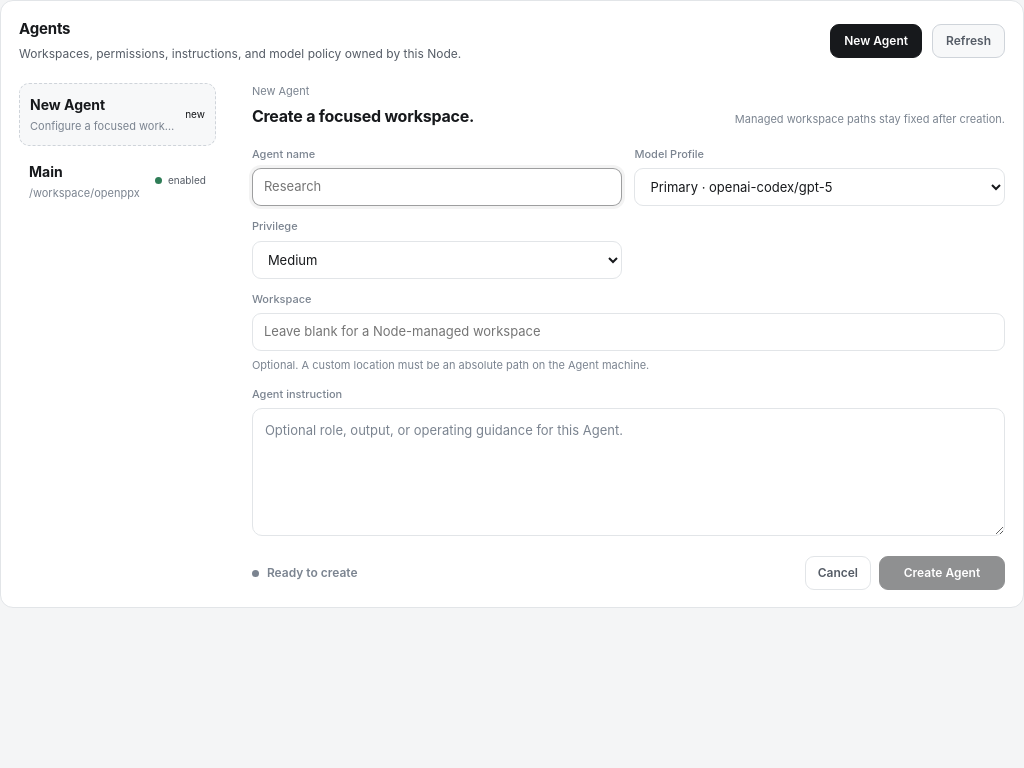
Scenario: AgentSettings › opens the inline creation form, focuses it, and cancels back to the selected Agent
Expected: the heading "Create a focused workspace." is shown, [252,104,474,128]
Expected: the field labelled "Agent ID" is not shown
Click the button "Cancel" at [838, 573], box [805,556,871,590]
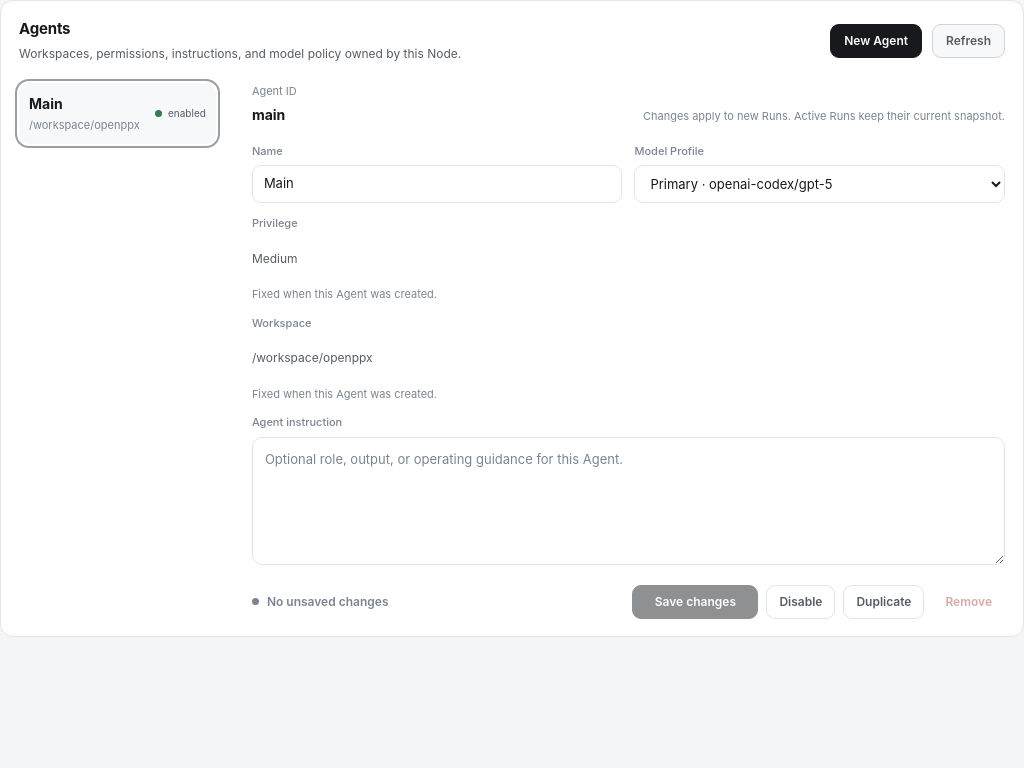
Result: the heading "Create a focused workspace." is gone
Result: the field labelled "Name" holds "Main" at [252,165,622,203]
